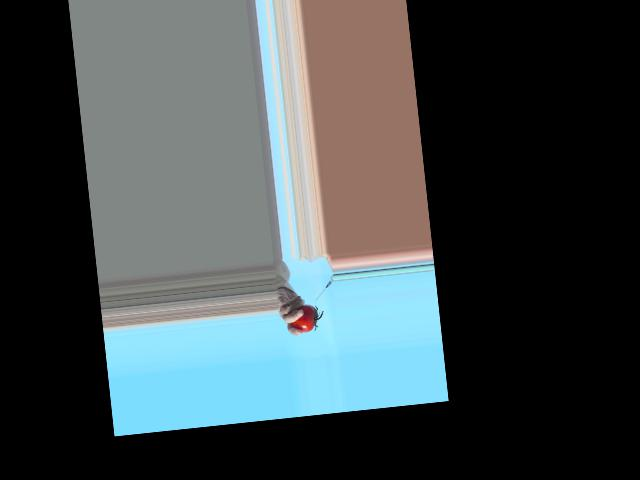tomato: (289, 304, 319, 334)
